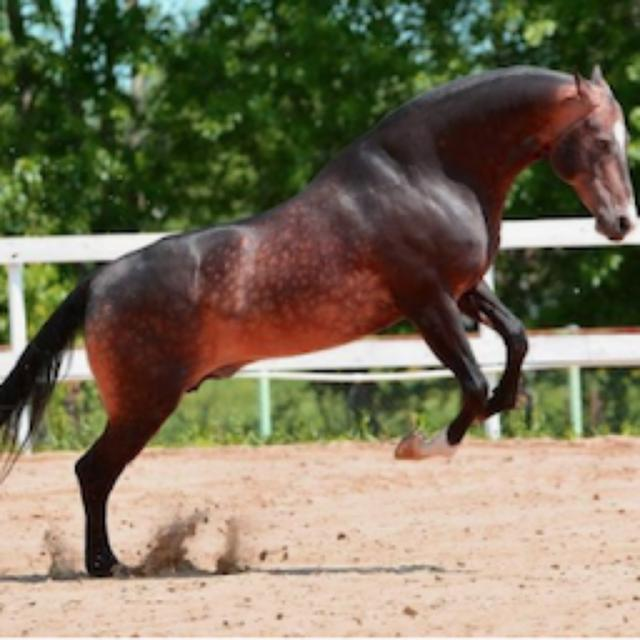Horse: (2, 55, 640, 580)
